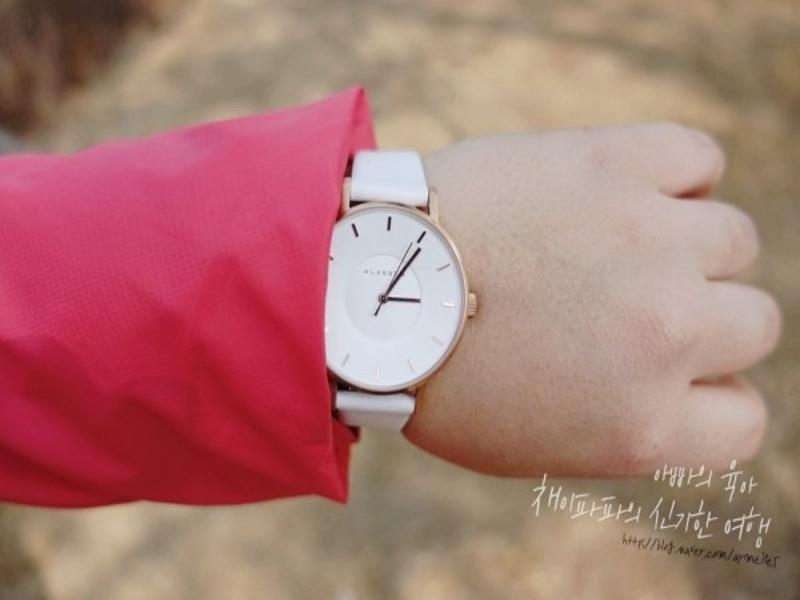watch: (307, 148, 476, 430)
